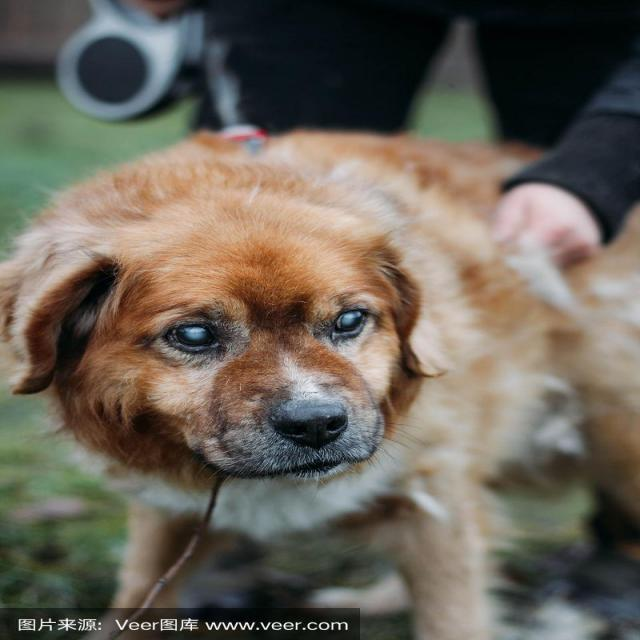eye: (155, 316, 228, 354), (324, 305, 374, 343)
